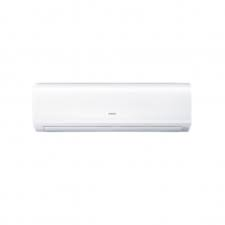ac: (30, 81, 194, 136)
